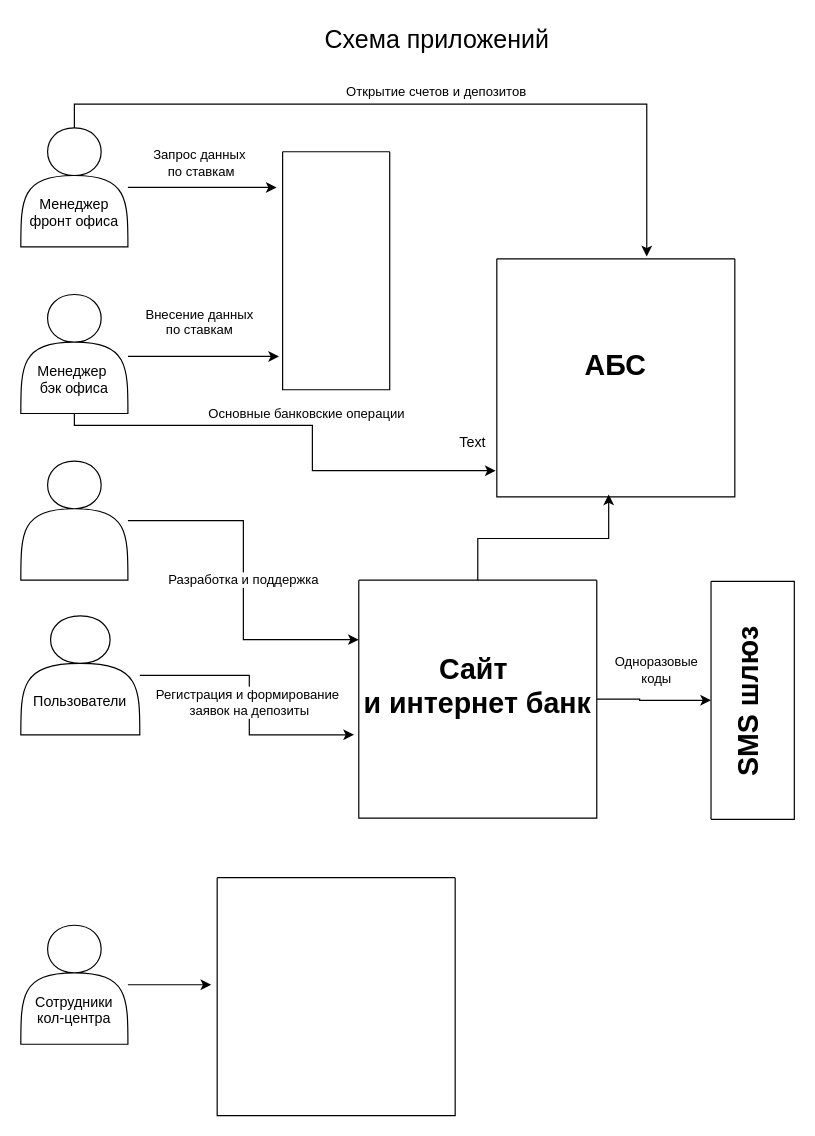
Image size: 815x1136. Some labels were removed from this diagram. The shapes that lost their labels are listed below. From the top down, each one's centre as x and y in pixels, then its label:
At (x=335, y=270): "EXCEL".
At (x=74, y=520): "ИТ отдел".
At (x=335, y=996): "CRM провайдера".
